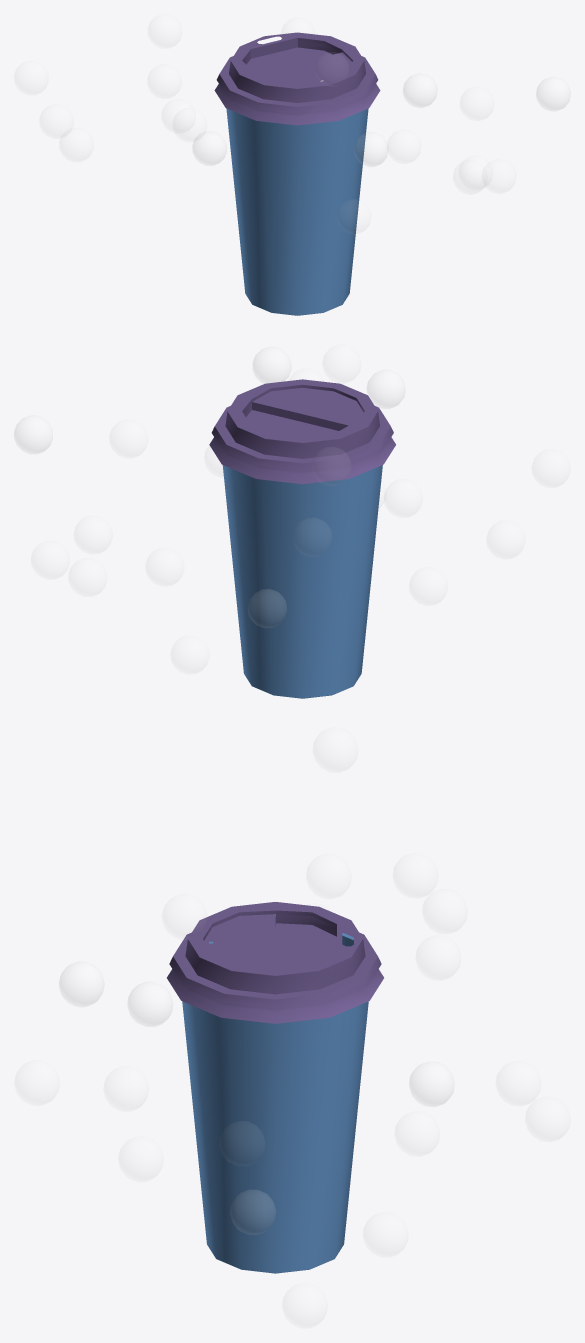
File: coffee-with-bubbles.gltf
The picture shows the model from 3 angles, top to bottom: view 1: azimuth 30°, elevation 25°; view 2: azimuth 150°, elevation 25°; view 3: azimuth 270°, elevation 25°; orthographic projection. The views are drawn at different scales.
Parts seen in each view (by area): view 1: cup, cap; view 2: cup, cap; view 3: cup, cap.
Boxes of the visible parts, x1,y1,x2,y2 form: cup: [226, 108, 368, 315]; cap: [214, 32, 380, 125]; cup: [222, 465, 382, 698]; cap: [209, 379, 395, 484]; cup: [182, 933, 368, 1273]; cap: [167, 902, 383, 1023].
Bounding box in the file's own units: 34.49 × 17.33 × 24.33.
